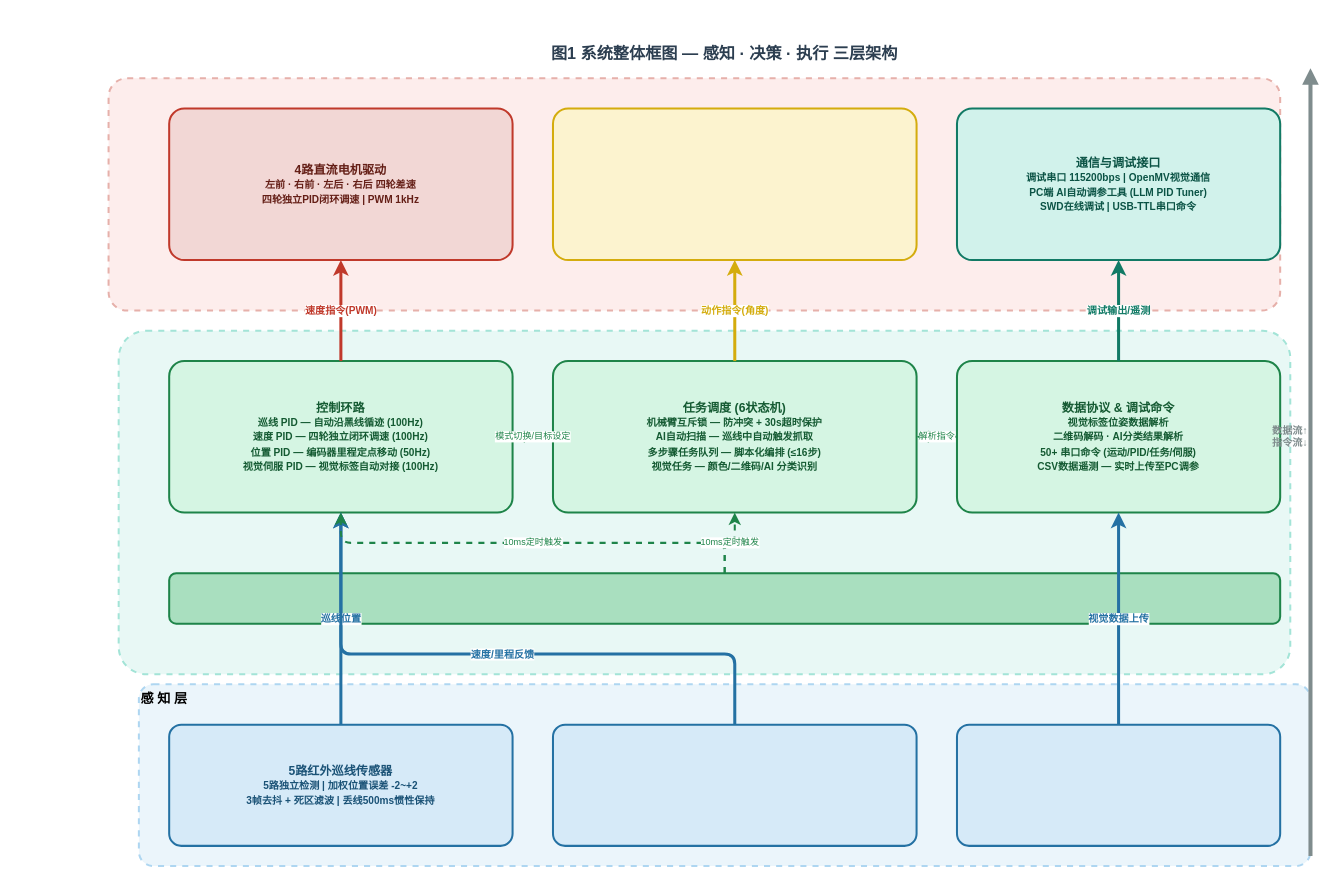
Image size: 1337x884. Some labels were removed from this diagram. Here are the shapes that lost their labels. From the top down, the centre of each, then its label:
pixel 734 184: 3路舵机 (4-DOF机械臂) 腰座 · 大臂 · 小臂 三关节联动 50Hz PWM | 平滑插值运动 智能断电管理: 大臂常开 / 腰座小臂节能关断
pixel 724 598: ⏱ TIM6 100Hz 系统心跳 — 所有控制环路的统一时钟源 | 中断优先级: 低压保护 > 系统心跳 > 视觉通信
pixel 734 784: 4路正交编码器 左前 · 右前 · 左后 · 右后 四轮独立测速 速度反馈 + 里程累计 | 低通滤波 + 回绕容错
pixel 1118 784: OpenMV 智能摄像头 视觉标签定位 | QR二维码识别 AI物体分类 (轻量神经网络，int8量化) 串口 115200bps 实时回传
